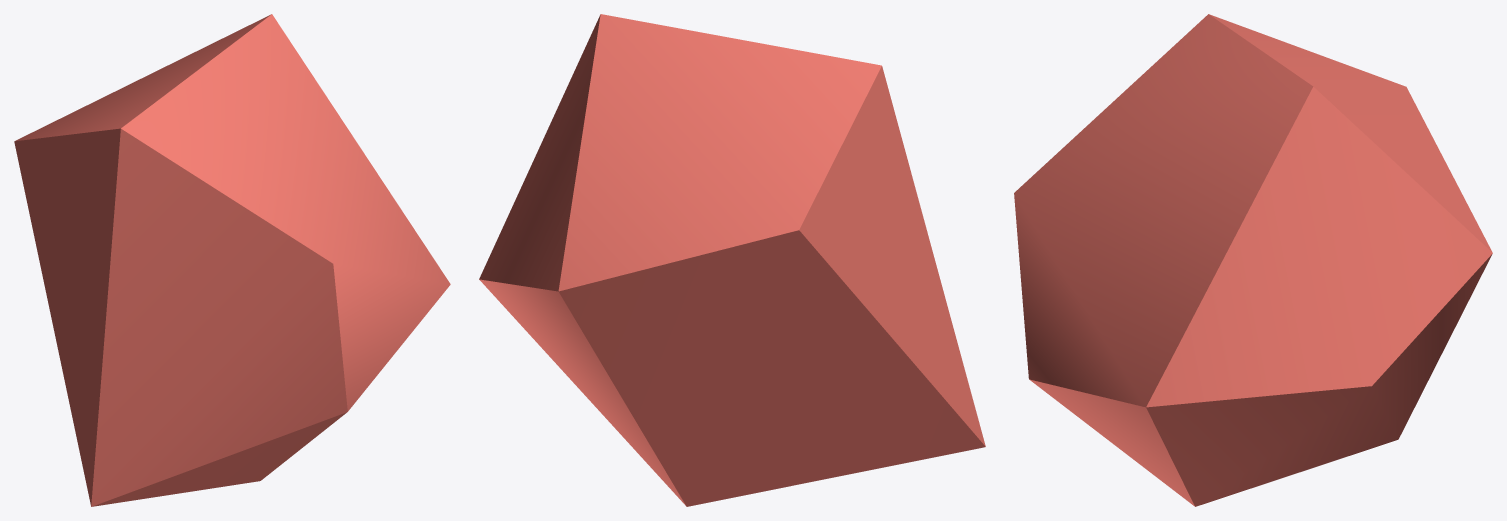
File: Rock_06.glb
3 views of the same model, side by side, from view 1: azimuth 30°, elevation 25°; view 2: azimuth 150°, elevation 25°; view 3: azimuth 270°, elevation 25° (orthographic). The views are drawn at different scales.
Visible parts, largest first — view 1: Rock_06; view 2: Rock_06; view 3: Rock_06.
Boxes of the visible parts, x1,y1,x2,y2 form: Rock_06: (14, 14, 450, 506); Rock_06: (479, 14, 985, 506); Rock_06: (1014, 14, 1492, 506).
Bounding box in the file's own units: 23.4 × 25.46 × 24.26.
